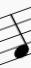F: (8, 13, 30, 60)
